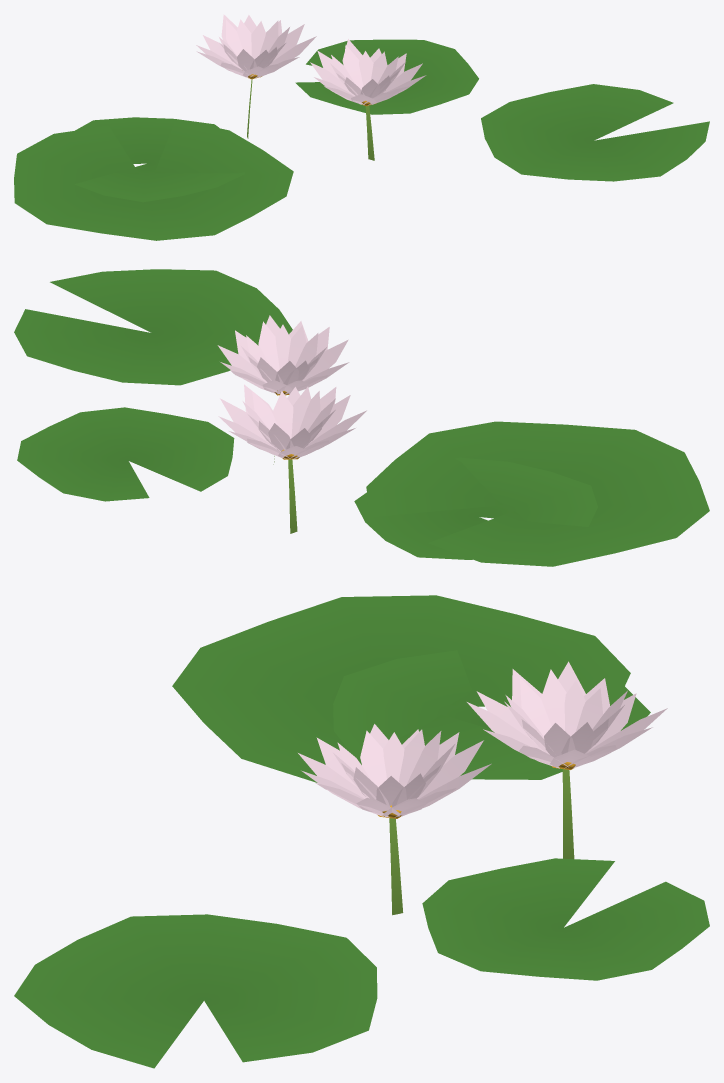
Rendered from water_lily1.gltf.
The picture shows the model from 3 angles, top to bottom: view 1: azimuth 30°, elevation 25°; view 2: azimuth 150°, elevation 25°; view 3: azimuth 270°, elevation 25°; orthographic projection. The views are drawn at different scales.
Visible parts, largest first — view 1: water_lily1_pad_LOD0, water_lily1_petal_LOD0, water_lily1_stalk_LOD0; view 2: water_lily1_pad_LOD0, water_lily1_petal_LOD0, water_lily1_stalk_LOD0; view 3: water_lily1_pad_LOD0, water_lily1_petal_LOD0, water_lily1_stalk_LOD0.
Part boxes in pixels (<box>): water_lily1_pad_LOD0: <box>14,39,709,240</box>; water_lily1_petal_LOD0: <box>196,14,426,105</box>; water_lily1_stalk_LOD0: <box>247,79,374,160</box>; water_lily1_pad_LOD0: <box>14,269,709,566</box>; water_lily1_petal_LOD0: <box>217,315,366,458</box>; water_lily1_stalk_LOD0: <box>273,456,297,533</box>; water_lily1_pad_LOD0: <box>14,595,709,1068</box>; water_lily1_petal_LOD0: <box>298,661,667,817</box>; water_lily1_stalk_LOD0: <box>389,769,574,915</box>.
Size of what is drawn, in the model's own units: 1.09 by 0.1806 by 0.6793.
